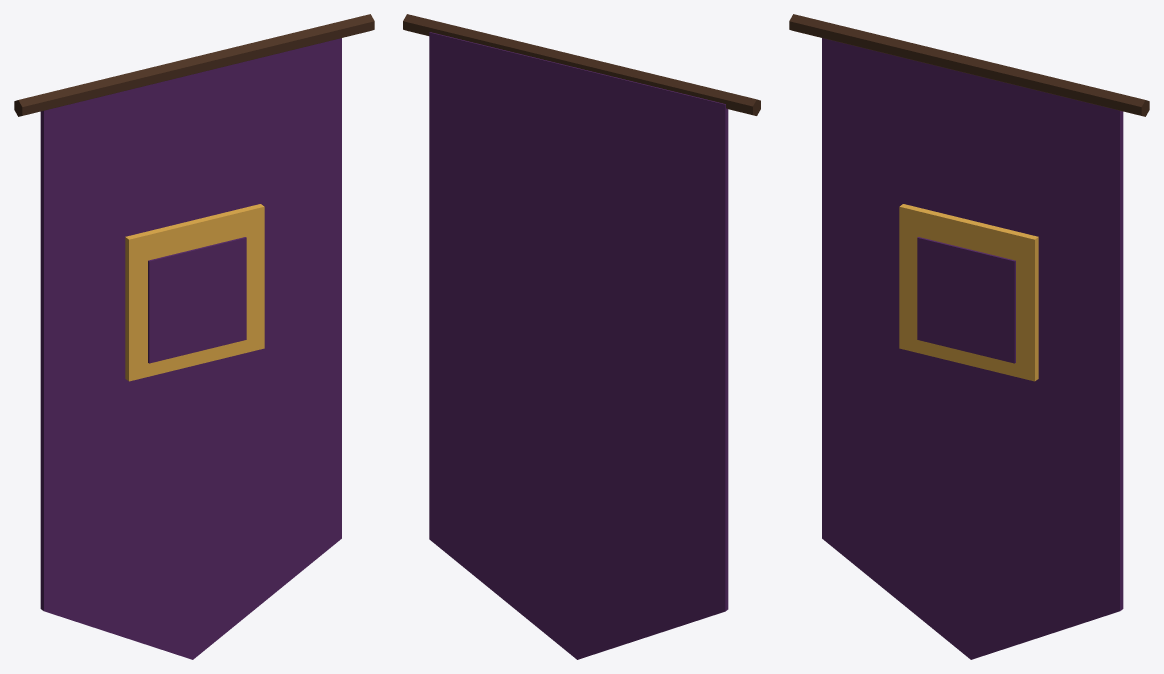
File: banner.glb
The picture shows the model from 3 angles, left to right: view 1: azimuth 30°, elevation 25°; view 2: azimuth 150°, elevation 25°; view 3: azimuth 330°, elevation 25°; orthographic projection.
Visible parts, largest first — view 1: banner; view 2: banner; view 3: banner.
Boxes of the visible parts, x1=… form: banner: x1=14, y1=14, x2=374, y2=659; banner: x1=403, y1=14, x2=760, y2=659; banner: x1=789, y1=14, x2=1149, y2=659.
Size of the model in its own units: 1.3 by 2.13 by 0.056.
